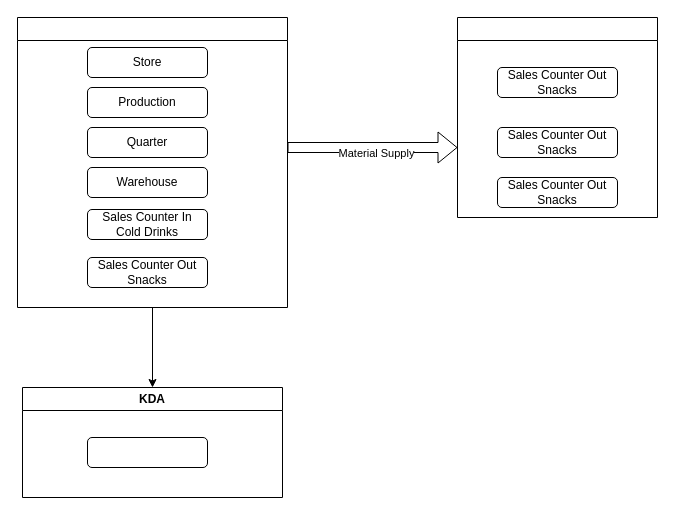
The diagram is 675 pixels wide and 515 high, and some of its shapes have lost their labels. The shapes that lost their labels are listed below. From the top down, each one's box as (x1, y1, x2, y2) in pixels, then its label:
(456, 16, 658, 218): Malir Mandi
(16, 16, 288, 308): PG
(86, 436, 208, 468): Sales Counter Snacks & Fast Food
